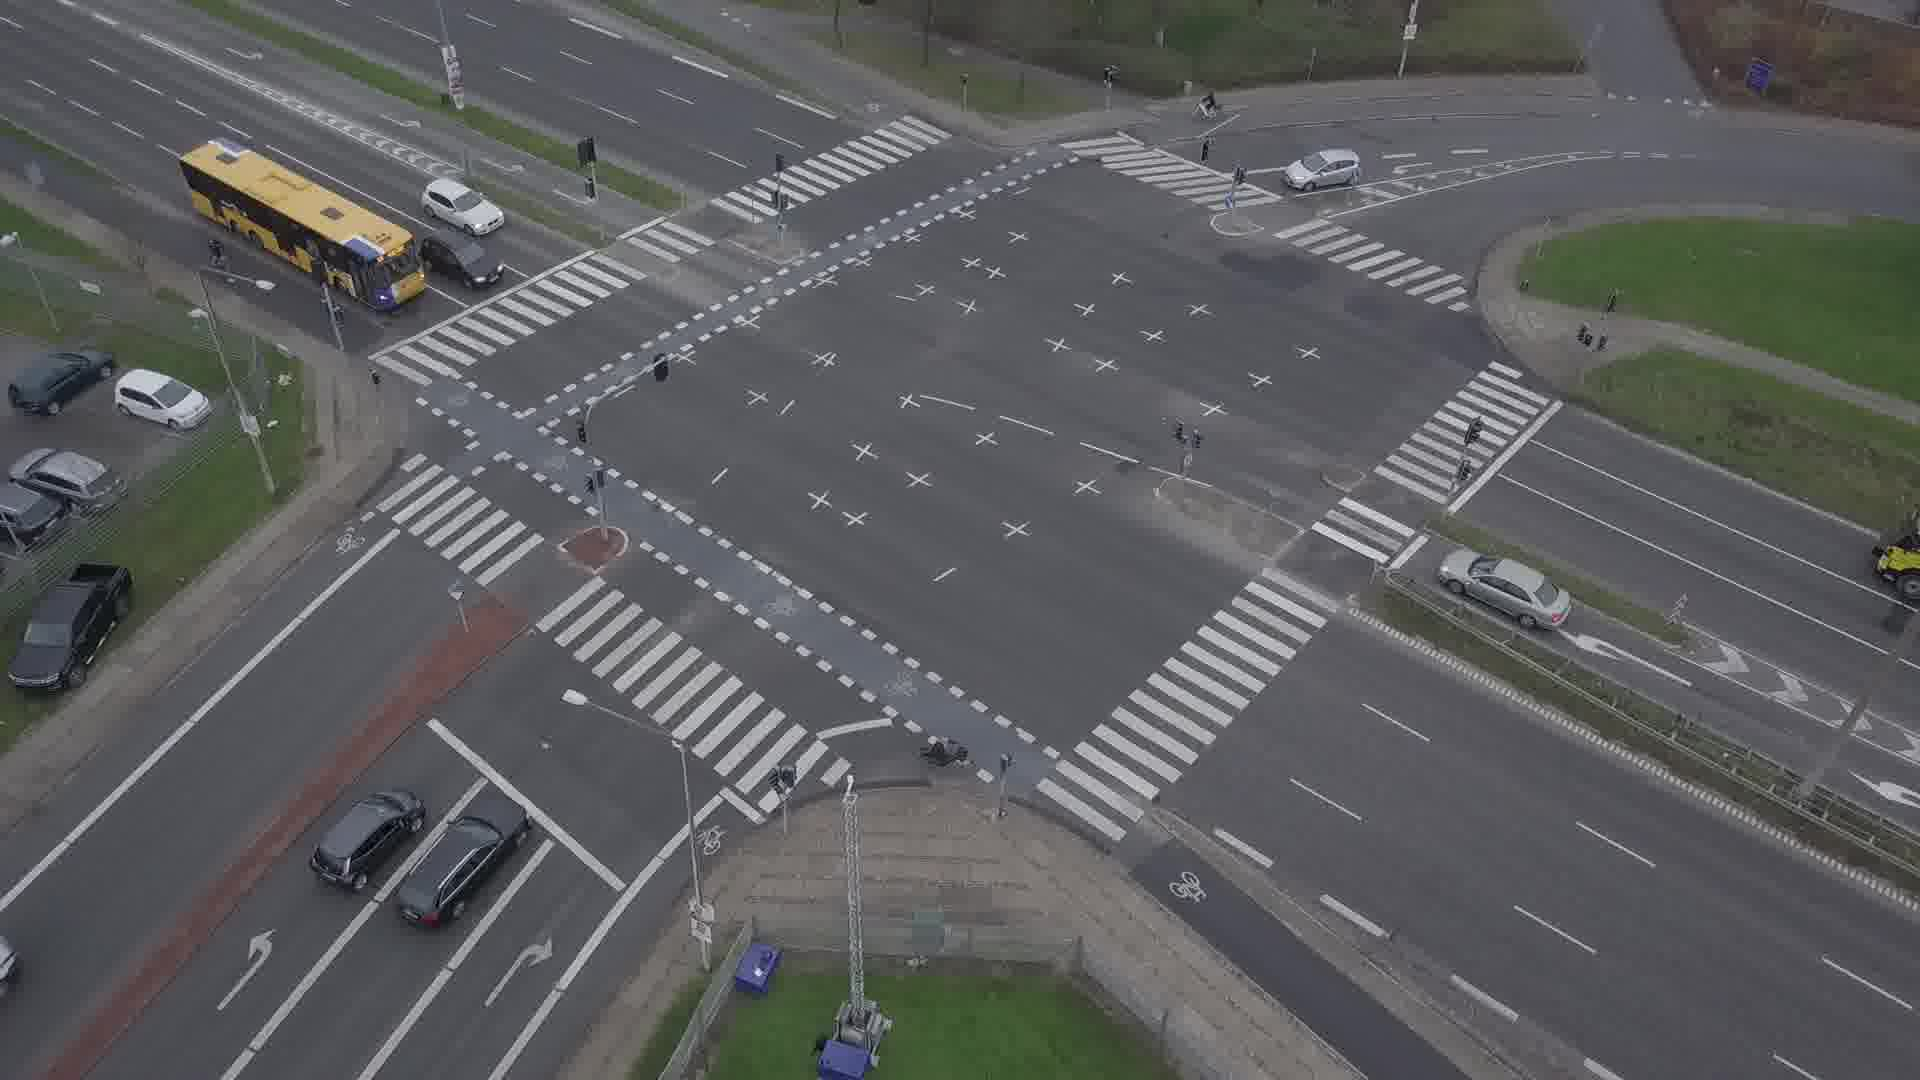bicycle: (916, 736, 979, 773), (1189, 92, 1226, 119), (205, 239, 233, 274)
bus: (179, 136, 427, 310)
car: (392, 792, 531, 933), (310, 790, 427, 894), (1438, 548, 1573, 630), (419, 230, 504, 290), (422, 178, 504, 236), (1284, 149, 1364, 191)
lorry: (1871, 501, 1920, 601)
